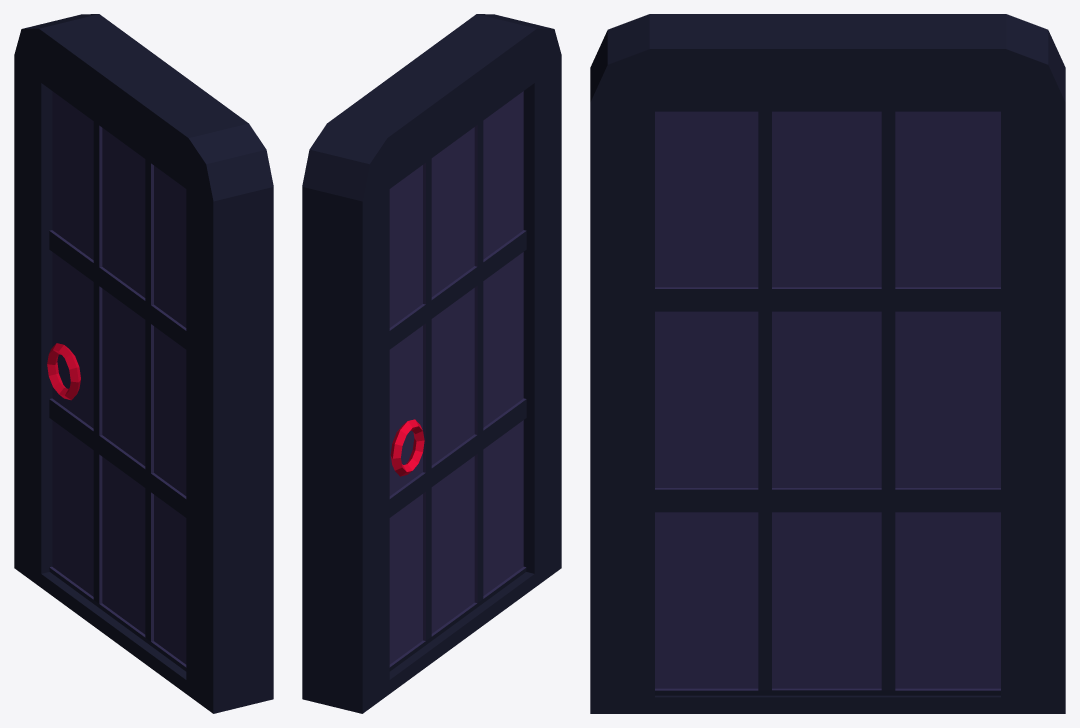
File: c_door.glb
The picture shows the model from 3 angles, left to right: view 1: azimuth 30°, elevation 25°; view 2: azimuth 150°, elevation 25°; view 3: azimuth 270°, elevation 25°; orthographic projection. The views are drawn at different scales.
Visible parts, largest first — view 1: C_DoorBase, C_Door; view 2: C_DoorBase, C_Door; view 3: C_Door, C_DoorBase.
Part boxes in pixels (<box>): C_DoorBase: <box>14,14,273,713</box>; C_Door: <box>47,91,186,671</box>; C_DoorBase: <box>302,14,561,713</box>; C_Door: <box>389,91,526,671</box>; C_Door: <box>655,111,1000,695</box>; C_DoorBase: <box>590,14,1065,713</box>.
Bounding box in the file's own units: 0.2367 × 2 × 1.3.
1 material, 1 textured.
